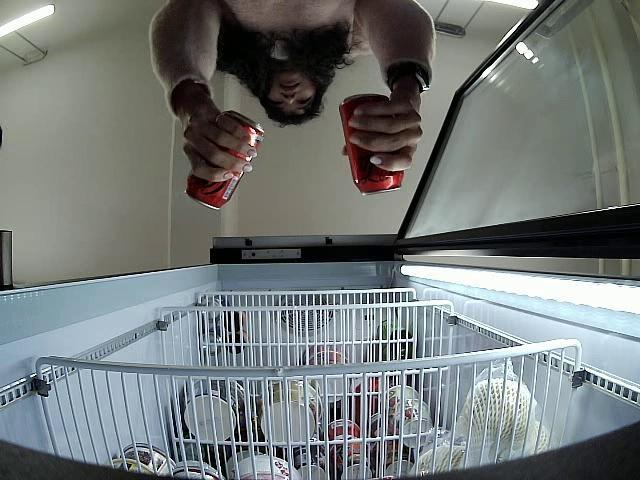11_cocaColaZero: (182, 109, 264, 210), (340, 93, 404, 196)
